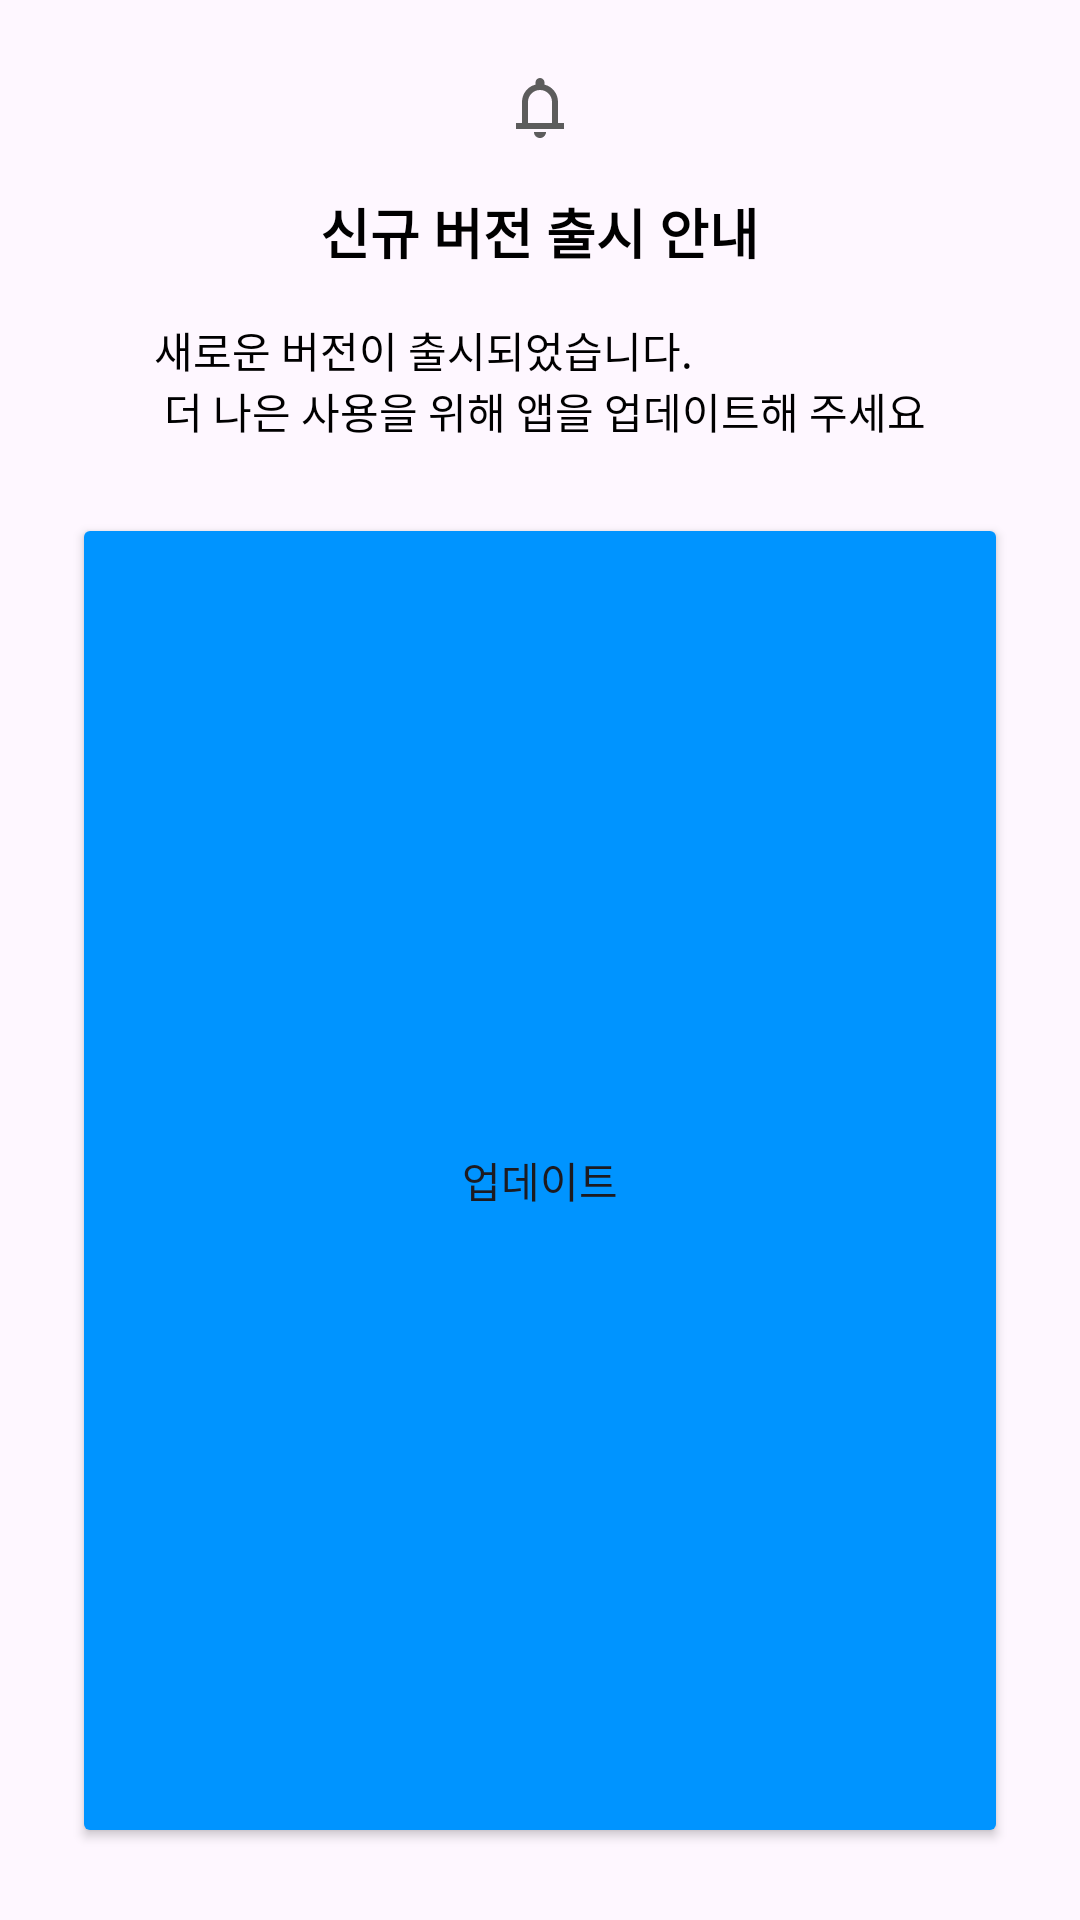

Screen size 1080 x 1920. Icon name, then its box in pixels as (x1, y1, x2, y2):
alarm: (516, 78, 564, 138)
